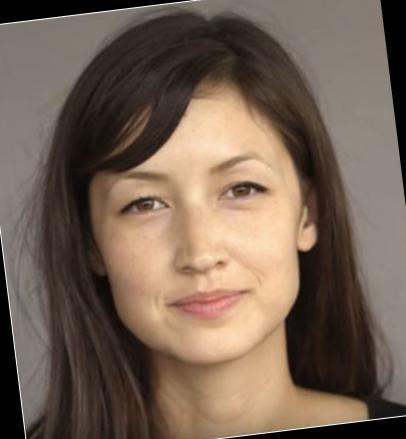Sober: (109, 117, 294, 349)
